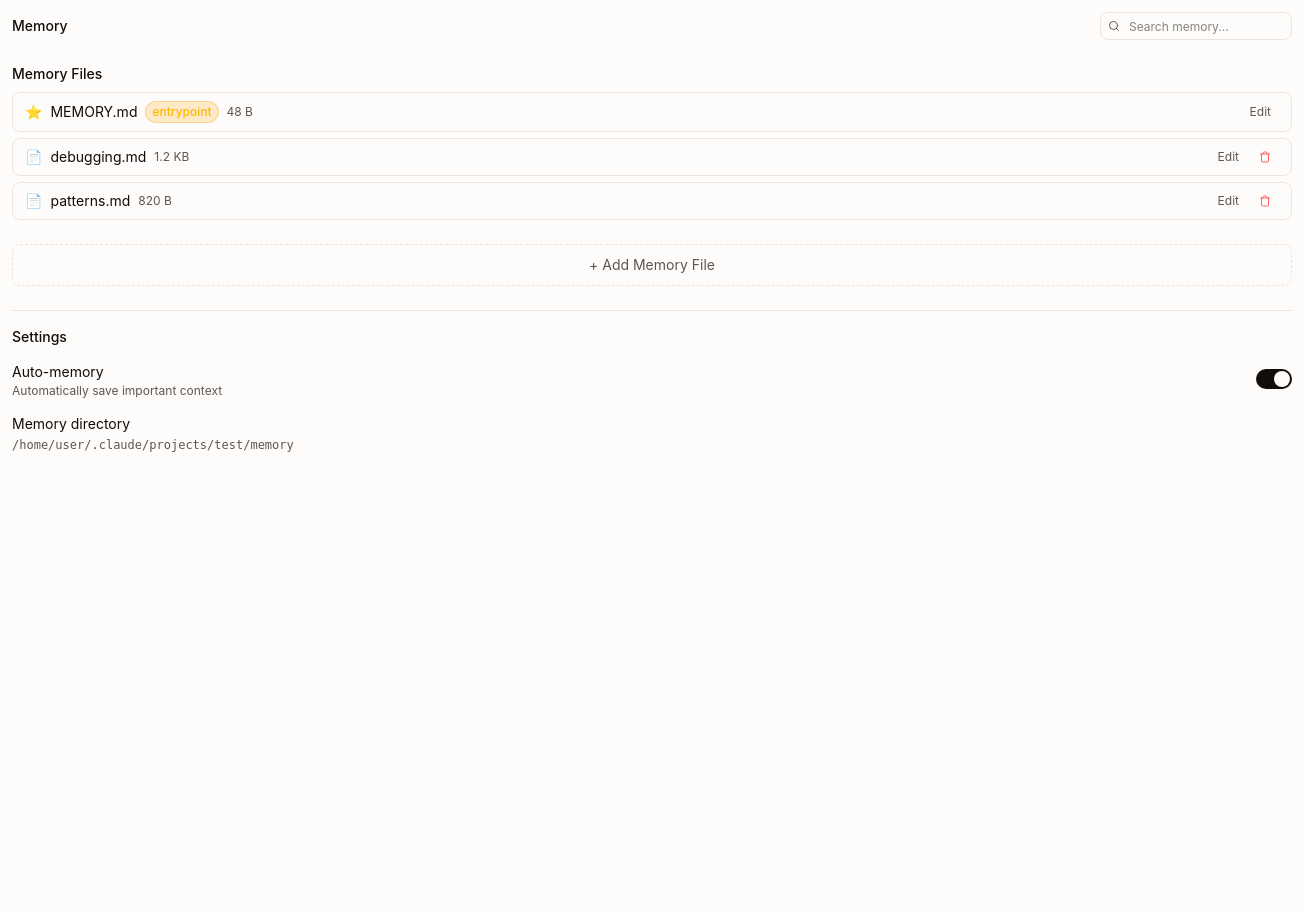
Test: MemoryPanel › cancel closes editor
Expected: the element with test id "memory-panel" is shown, x1=12 y1=12 x2=1292 y2=453
Step 1. Click the button with test id "memory-edit-btn-MEMORY.md" → (1260, 112), box x1=1242 y1=102 x2=1279 y2=122
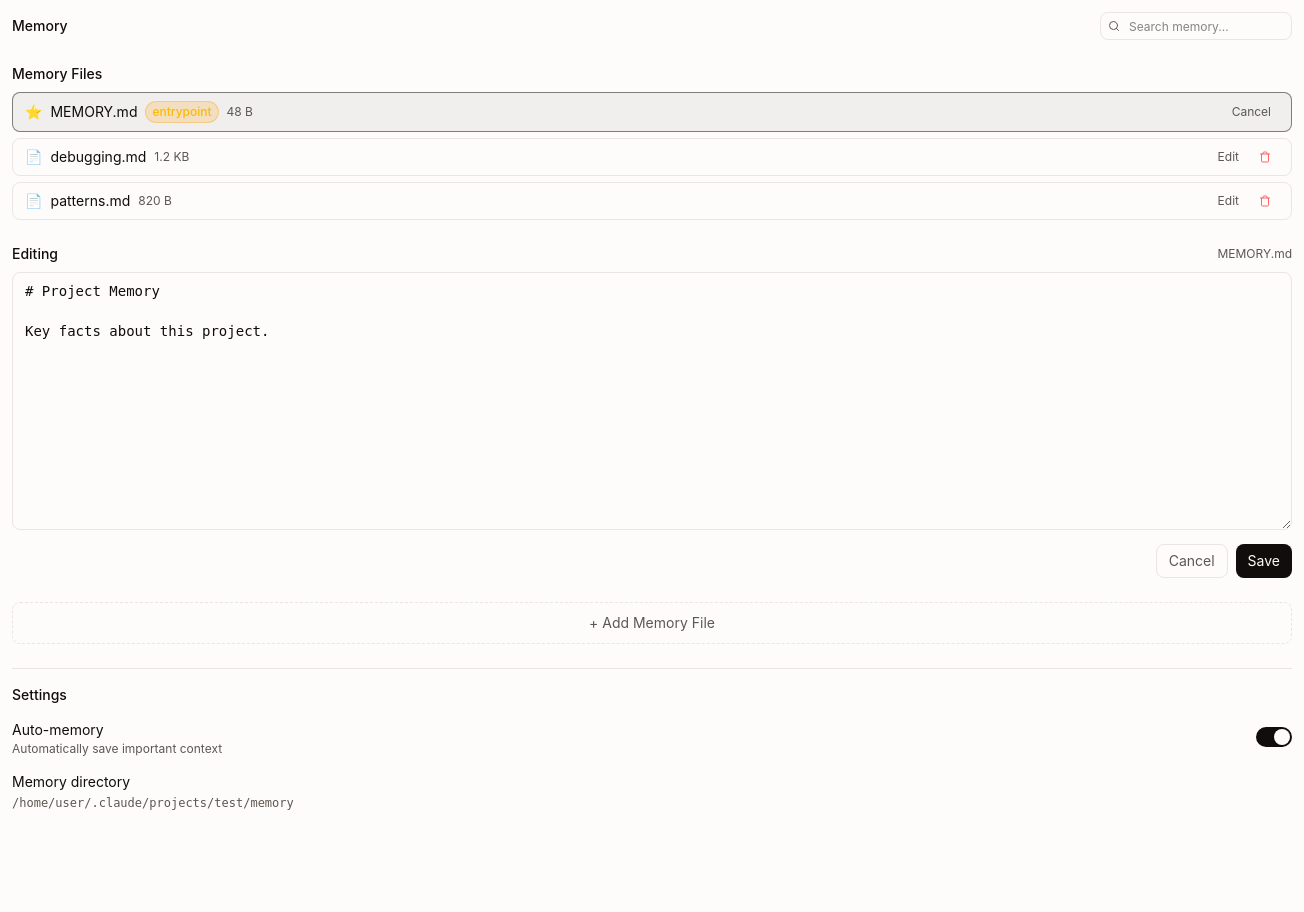
Expected: the element with test id "memory-editor" is shown, x1=12 y1=244 x2=1292 y2=578
Step 2. Click the button with test id "memory-cancel-btn" → (1192, 561), box x1=1156 y1=544 x2=1228 y2=578
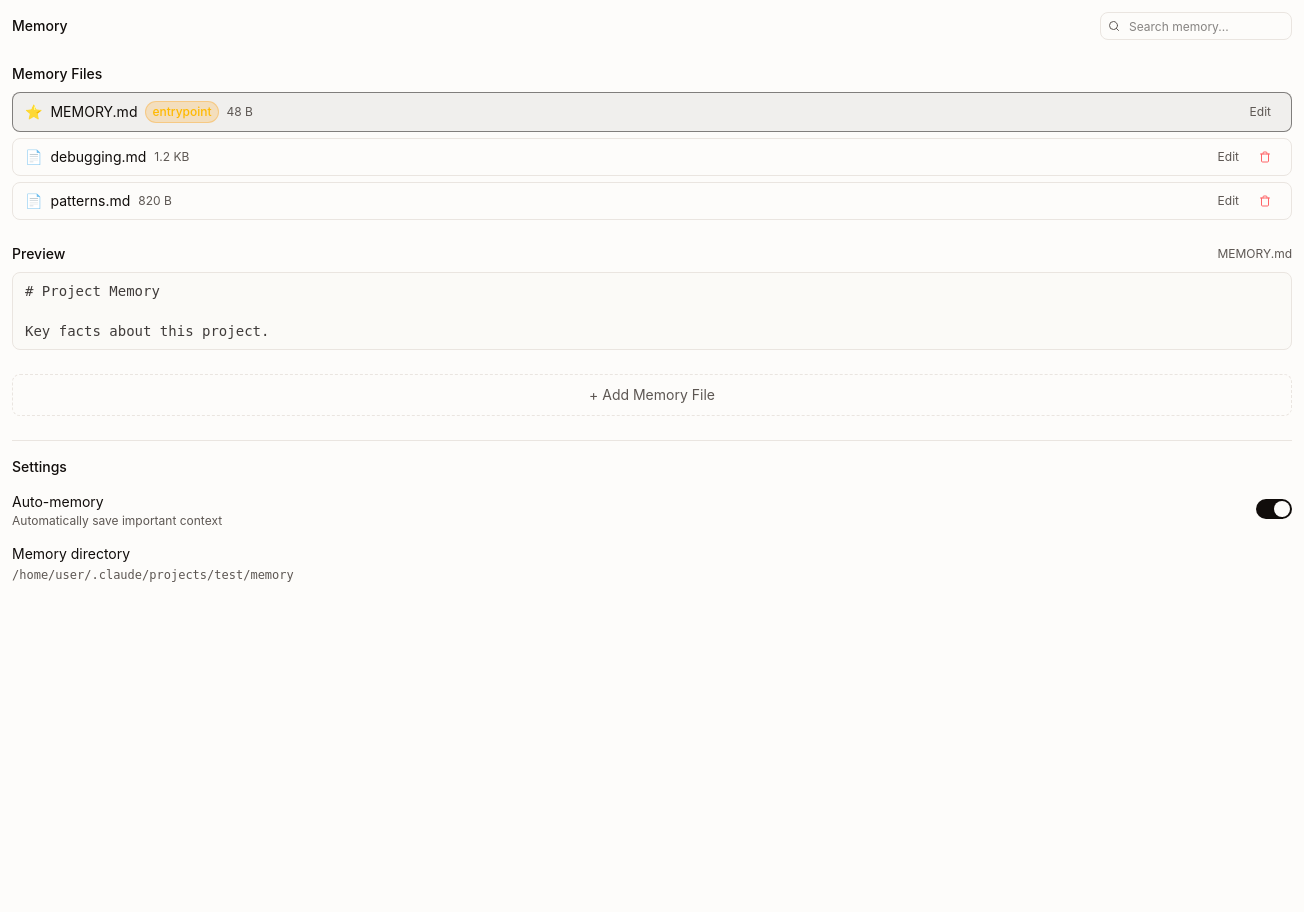
Expected: the element with test id "memory-editor" is gone
